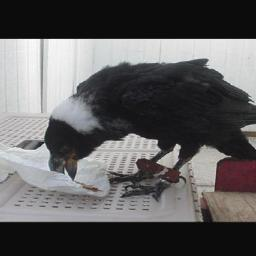Crow: (39, 58, 256, 202)
